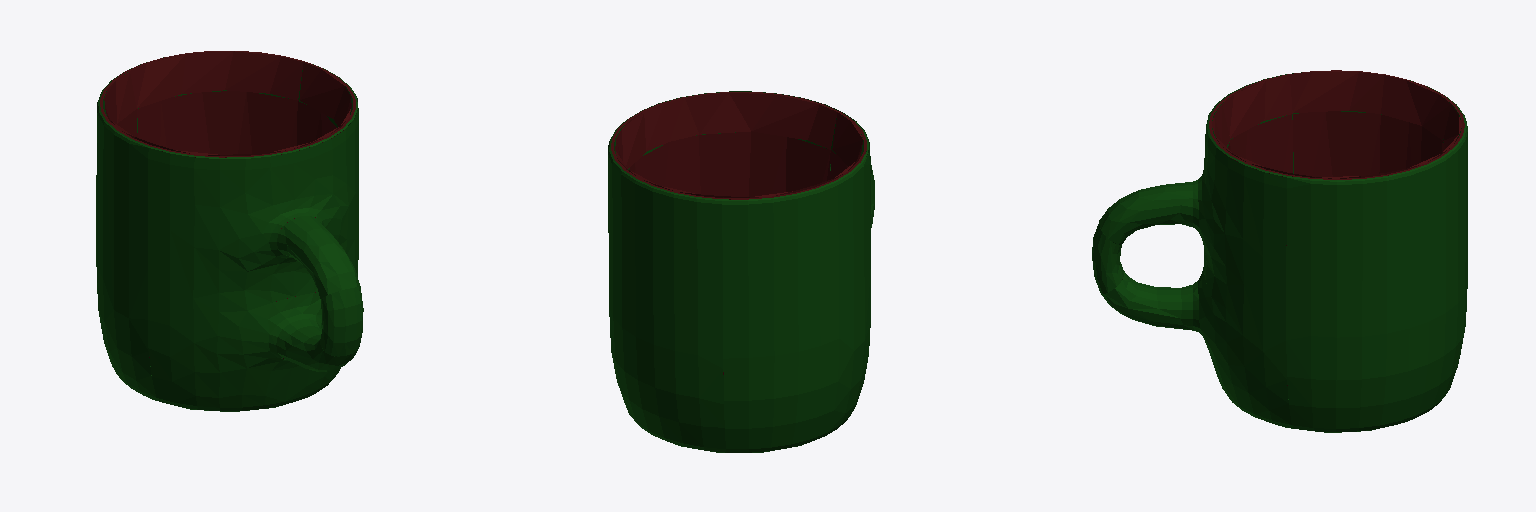
Rendered from mug.obj.
3 renders of one model, left to right at view 1: azimuth 30°, elevation 25°; view 2: azimuth 150°, elevation 25°; view 3: azimuth 270°, elevation 25°, orthographic.
Visible parts, largest first — view 1: caneca_Material.002_0, caneca_Material.001_0; view 2: caneca_Material.002_0, caneca_Material.001_0; view 3: caneca_Material.002_0, caneca_Material.001_0.
Part boxes in pixels (x1,y1,x2,y2): caneca_Material.002_0: (96, 57, 363, 411); caneca_Material.001_0: (100, 51, 355, 358); caneca_Material.002_0: (608, 91, 874, 452); caneca_Material.001_0: (611, 92, 866, 374); caneca_Material.002_0: (1092, 72, 1467, 432); caneca_Material.001_0: (1209, 70, 1464, 385).
Size of the model in its own units: 0.763 by 0.8489 by 1.09.